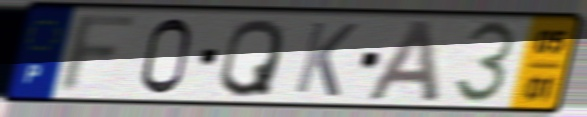0: (139, 15, 193, 97)
3: (450, 18, 519, 107)
A: (362, 18, 444, 104)
F: (52, 13, 147, 97)
K: (290, 19, 361, 100)
Q: (215, 15, 288, 100)
